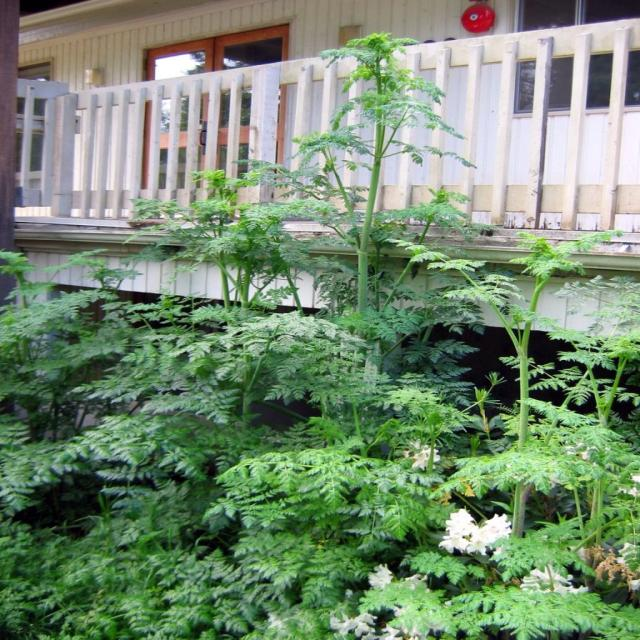Poisonous-Hemlock: (32, 346, 632, 640)
